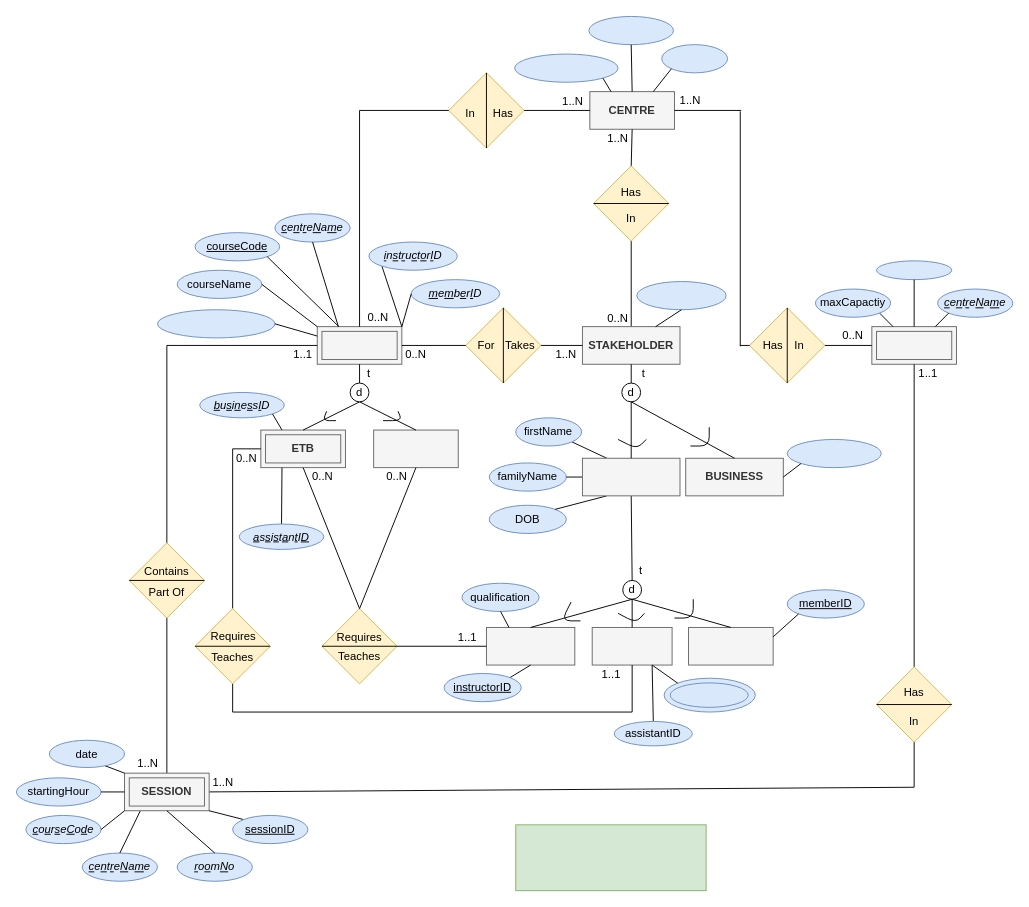
This 1029x907 diagram has some shape labels left out. Each missing label, with the centre of its shape:
ABBREVIATIONS DOB = DATE OF BIRTH ETB = EXCLUSIVE TO BUSINESS OTA = OPEN TO ALL: the point at 610,857
address: the point at 694,58
ASSISTANT: the point at 631,646
businessID: the point at 833,453
centreName: the point at 631,30
COURSE: the point at 359,345
INSTRUCTOR: the point at 530,646
MEMBER: the point at 730,646
numberOfRooms: the point at 566,67
numberOfSessions: the point at 216,323
OTA: the point at 415,448
PEOPLE: the point at 630,476
ROOM: the point at 914,345
roomNo: the point at 914,270
stakeholderID: the point at 681,295
trainingCert: the point at 708,694
